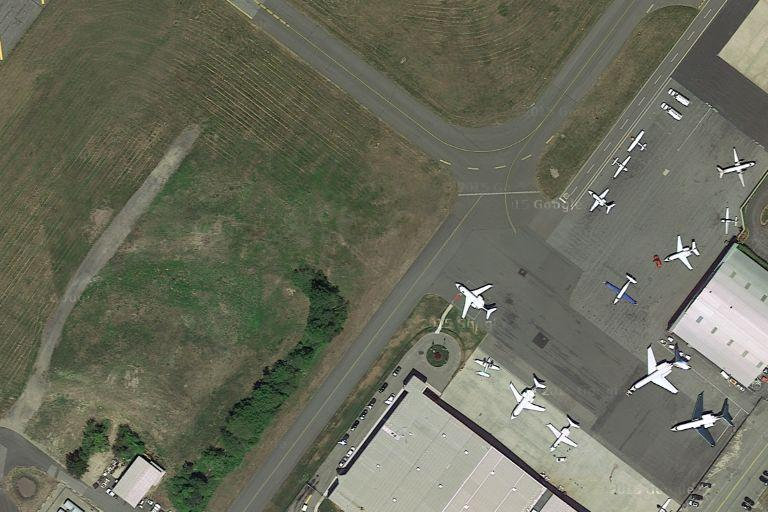plane: (631, 335, 694, 403), (666, 389, 737, 446), (451, 276, 502, 326), (504, 371, 552, 420), (710, 146, 760, 191), (543, 412, 583, 455), (664, 231, 704, 273), (581, 185, 618, 217)
